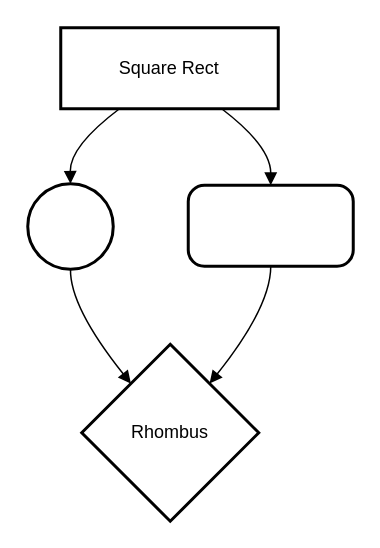
The diagram is 380 pixels wide and 548 high, and some of its shapes have lost their labels. Here are the shapes that lost their labels. From the top down, the centre of each, then its label:
At (x=70, y=226): "Circle".
At (x=270, y=225): "Round Rect".
